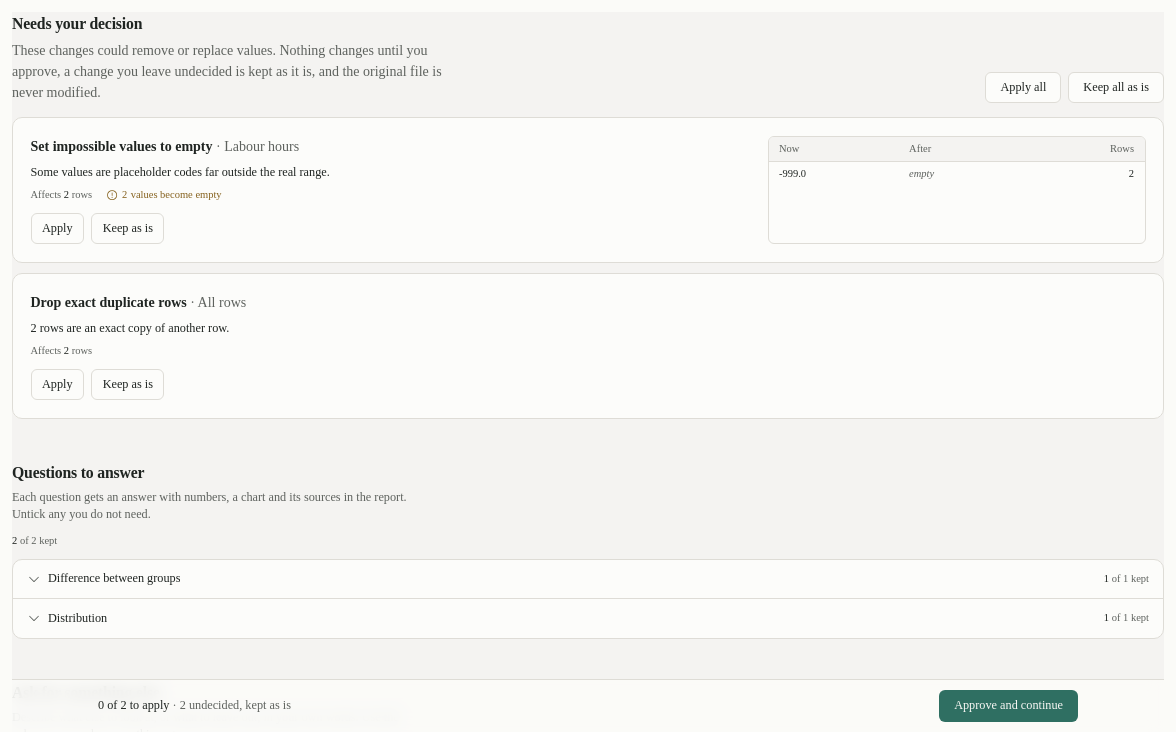
Test case: ReviewForm › applies or keeps every change at once
Click the button "Apply all" at (1023, 87), box [985,72,1061,103]
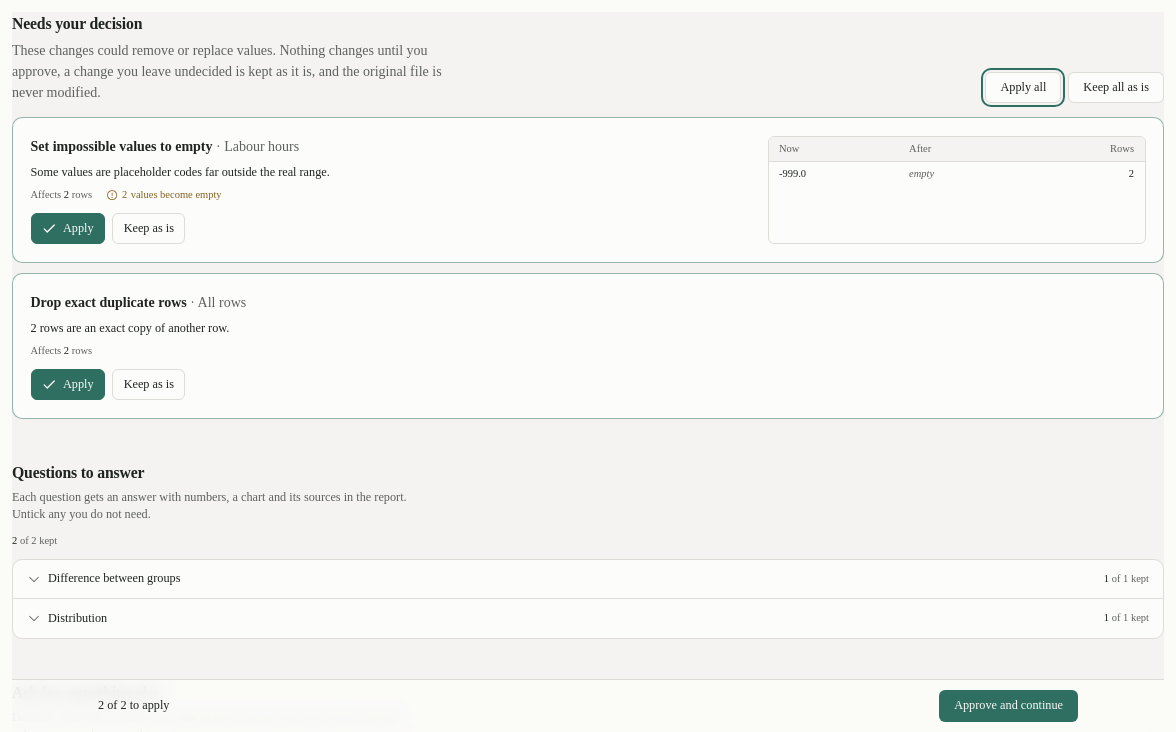
Check: the element named "Approve the plan" shows "2 of 2 to apply", box [12,678,1164,731]
Check: the radio button labelled "Apply" below "values become" is checked, box [30,212,105,244]
Check: the radio button labelled "Apply" below "2 rows are an exact copy of another row." is checked, box [30,368,105,400]
Click the button "Keep all as is" at (1116, 87), box [1068,72,1164,103]
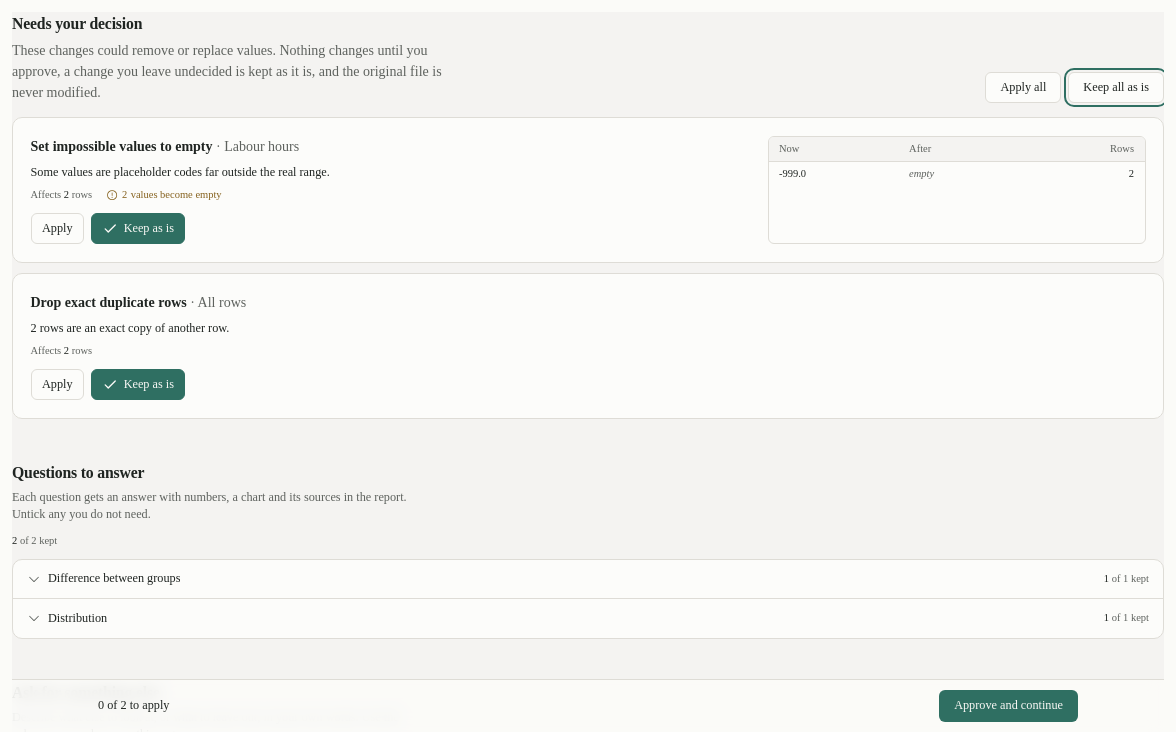
Check: the element named "Approve the plan" shows "0 of 2 to apply", box [12,678,1164,731]
Check: the radio button labelled "Keep as is" below "values become" is checked, box [91,212,186,244]
Check: the radio button labelled "Keep as is" below "2 rows are an exact copy of another row." is checked, box [91,368,186,400]
One change switched back by hand.
Click the radio button "Apply" below "values become" at (57, 228), box [30,212,84,244]
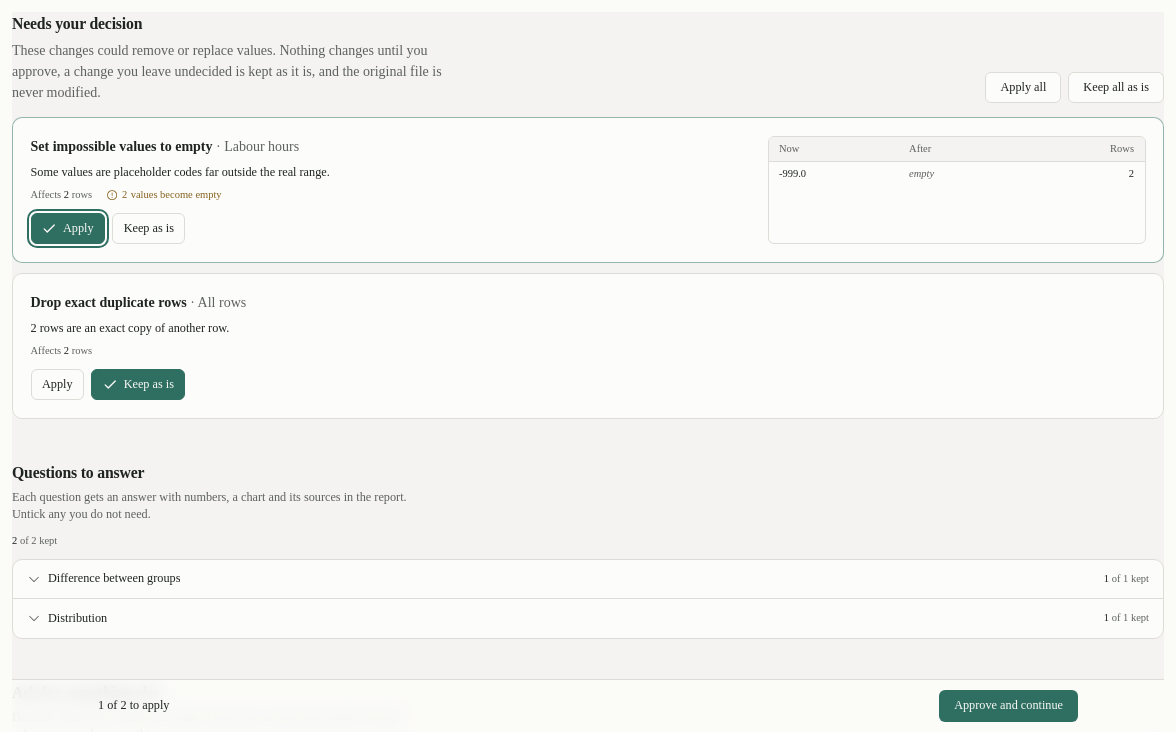
Check: the element named "Approve the plan" shows "1 of 2 to apply", box [12,678,1164,731]
